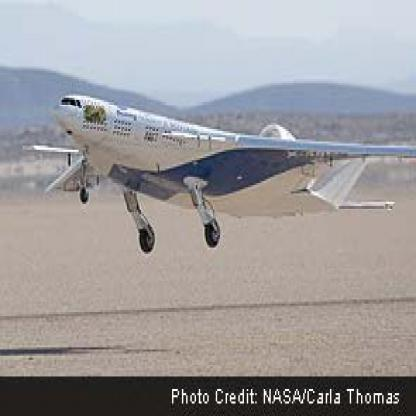CIV_Plane: (14, 75, 414, 255)
